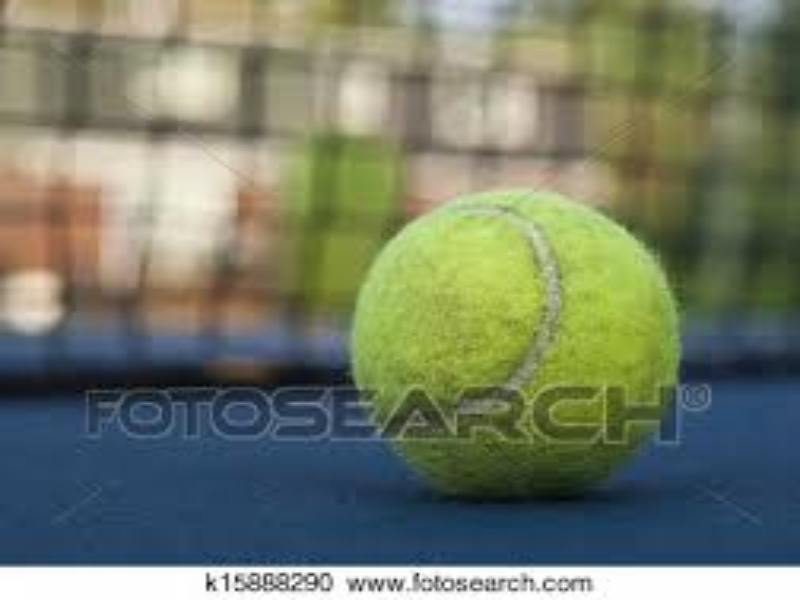tennis ball: (344, 179, 695, 494)
